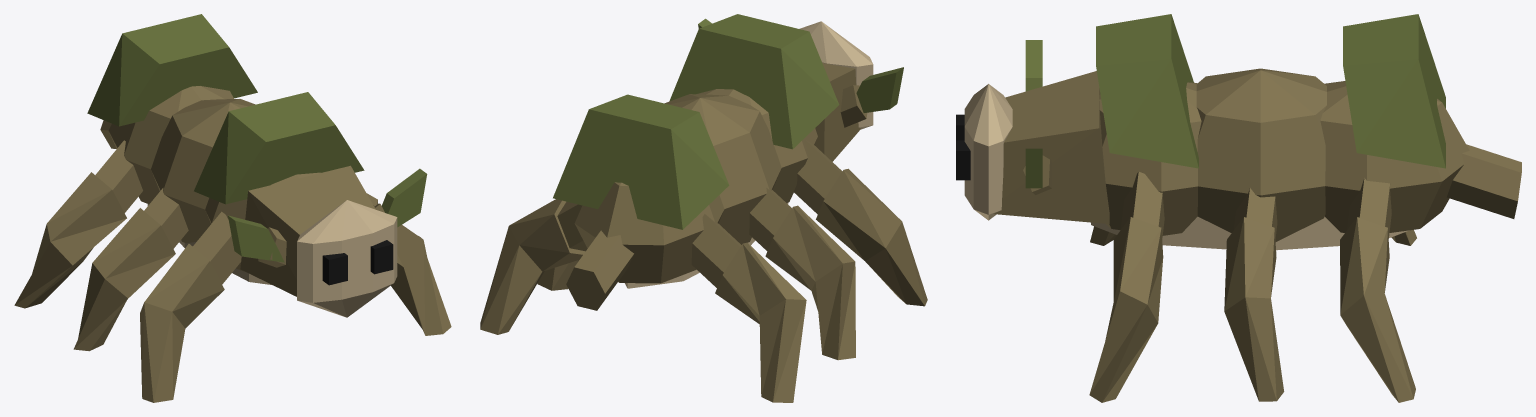
The model's file is loamtick.glb.
3 renders of one model, left to right at view 1: azimuth 30°, elevation 25°; view 2: azimuth 150°, elevation 25°; view 3: azimuth 270°, elevation 25°, orthographic. The views are drawn at different scales.
Parts seen in each view (by area): view 1: Loamtick; view 2: Loamtick; view 3: Loamtick.
Part boxes in pixels (bbox=[...]): Loamtick: bbox=[14, 14, 451, 402]; Loamtick: bbox=[480, 14, 927, 402]; Loamtick: bbox=[956, 14, 1521, 402].
Bounding box in the file's own units: 0.48 × 0.36 × 0.66.
